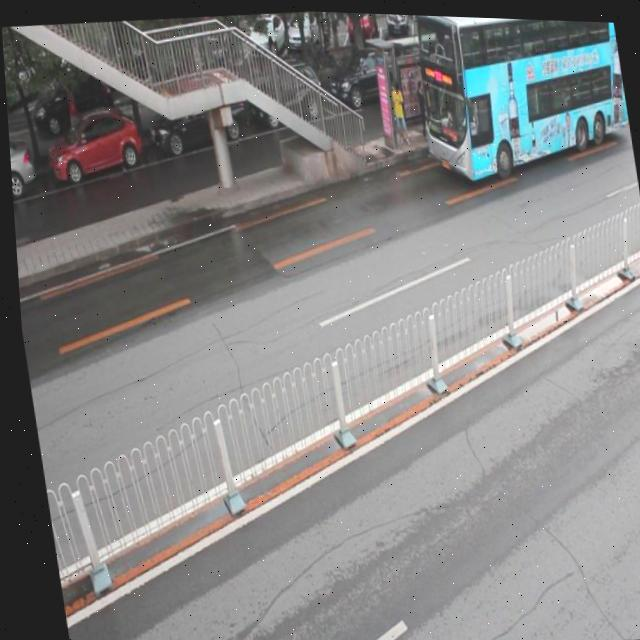car: (40, 106, 144, 190), (141, 86, 250, 161), (320, 43, 412, 119), (245, 59, 324, 129), (7, 133, 34, 200)
van: (406, 12, 635, 187)
